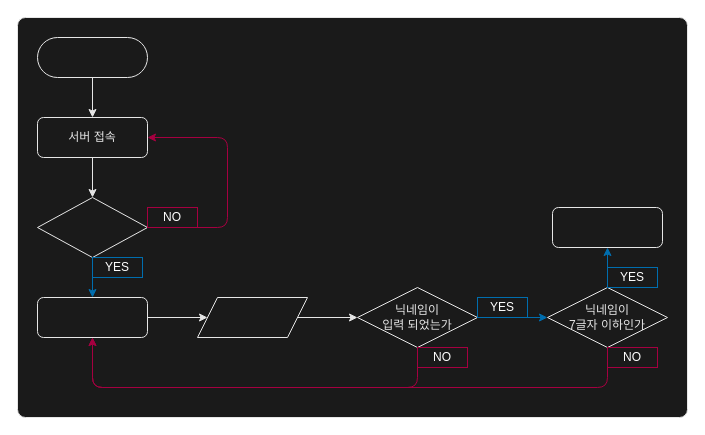
Image size: 705x435. Some labels were removed from this diagram. The centre of each missing label's shape, as x and y in pixels:
"게임 시작" goes at pixel 92 57.
"게임(룸) 입장" goes at pixel 607 227.
"로그인 되었는가?" goes at pixel 92 227.
"로비 입장" goes at pixel 92 317.
"입장 버튼" goes at pixel 252 317.
